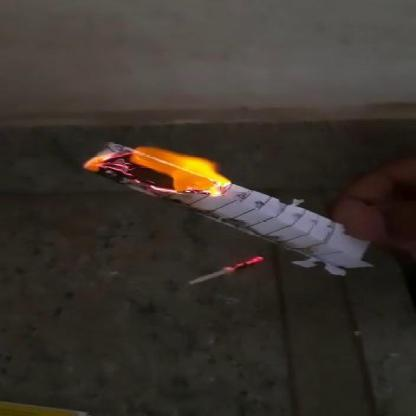Fire: (87, 143, 236, 205)
